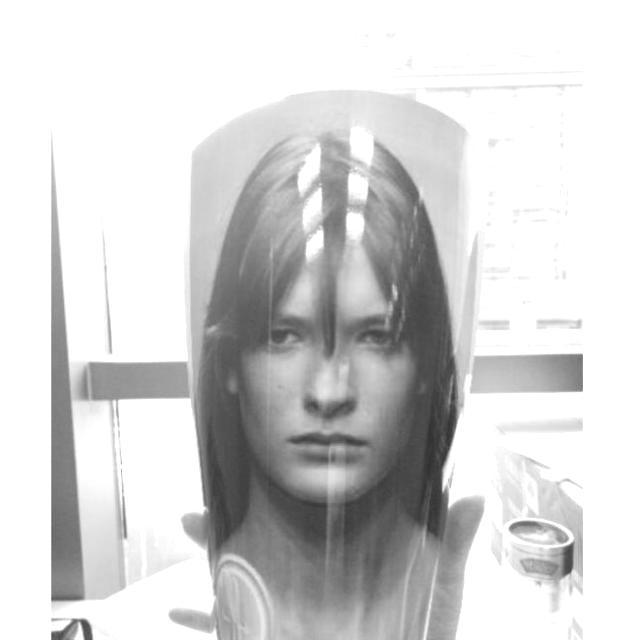fake: (170, 83, 489, 640)
